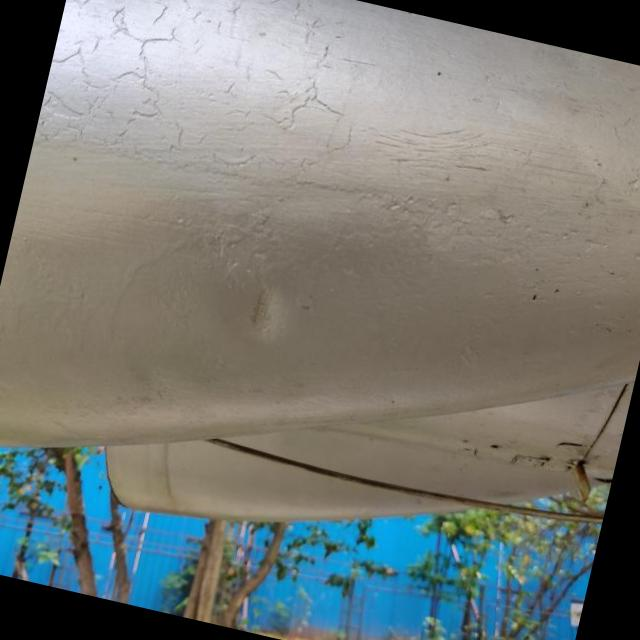Dent: (210, 261, 317, 365)
